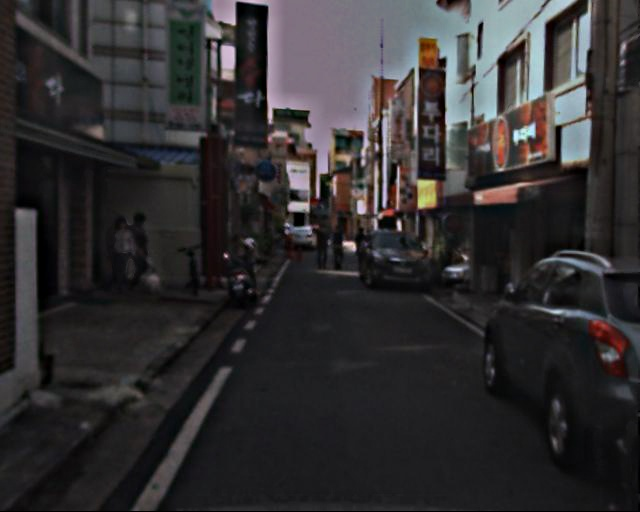person: (108, 212, 146, 289), (129, 214, 159, 289), (314, 224, 333, 270), (352, 225, 370, 270), (330, 228, 347, 270)
